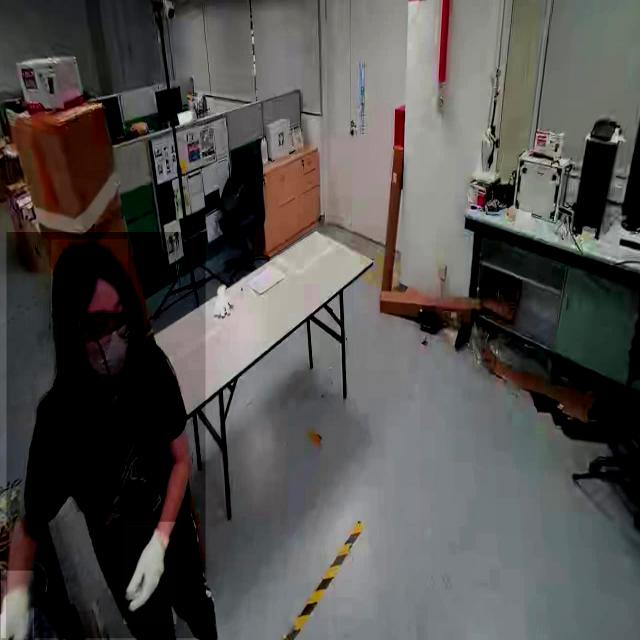face_mask: (80, 313, 137, 395)
glasses: (86, 304, 132, 347)
hand_glove: (123, 522, 177, 625), (0, 571, 34, 639)
head_nohelmet: (50, 239, 128, 311)
person: (6, 232, 206, 639)
